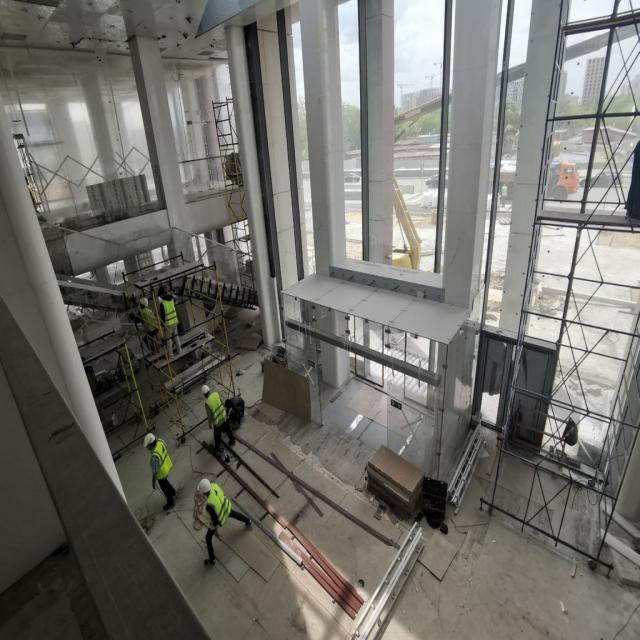Helmet: (198, 479, 213, 498), (145, 434, 158, 453), (201, 386, 212, 401), (160, 287, 170, 300), (141, 298, 149, 311)
NoHelmet: (225, 400, 234, 410)
